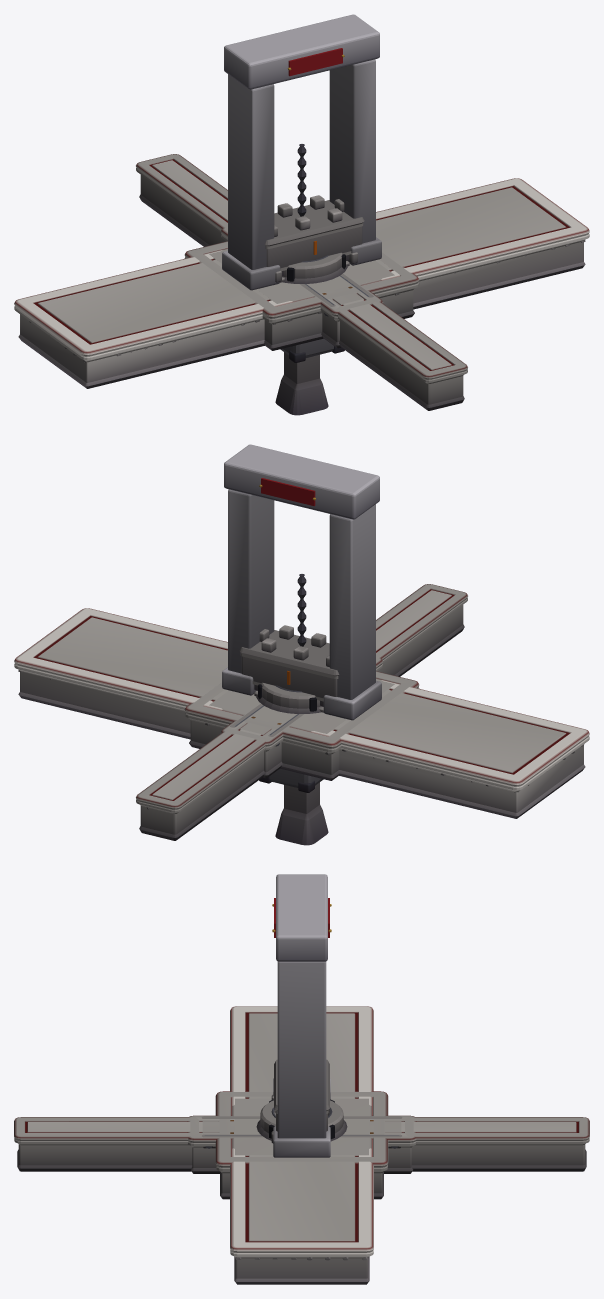
File: fortress-1-CBrLOZ64.glb
3 views of the same model, one above another, from view 1: azimuth 30°, elevation 25°; view 2: azimuth 150°, elevation 25°; view 3: azimuth 270°, elevation 25° (orthographic).
Visible parts, largest first — view 1: block_40x2x10#0, pressFrame_6x6x2x7#0, block_3.5x2x40_grate#0, block_12x2x12#0, spout_6x2#0, support_0_square#0, block_4x2x16#0, geyserVent_3.9#0, press_4x6x5_thump#0; view 2: block_40x2x10#0, pressFrame_6x6x2x7#0, block_3.5x2x40_grate#0, block_12x2x12#0, spout_6x2#0, support_0_square#0, block_4x2x16#0, geyserVent_3.9#0, press_4x6x5_thump#0; view 3: block_40x2x10#0, block_3.5x2x40_grate#0, pressFrame_6x6x2x7#0, block_12x2x12#0, block_4x2x16#0, geyserVent_3.9#0, belt_3.5x1.5x14x0#0, spout_6x2#0.
Part boxes in pixels (x1,y1,x2,y2): block_40x2x10#0: (14, 178, 589, 388); pressFrame_6x6x2x7#0: (222, 14, 381, 290); block_3.5x2x40_grate#0: (136, 154, 467, 410); block_12x2x12#0: (184, 241, 419, 350); spout_6x2#0: (264, 195, 364, 282); support_0_square#0: (275, 352, 328, 415); block_4x2x16#0: (220, 227, 383, 348); geyserVent_3.9#0: (282, 252, 347, 283); press_4x6x5_thump#0: (280, 144, 344, 362); block_40x2x10#0: (14, 608, 589, 818); pressFrame_6x6x2x7#0: (222, 444, 381, 720); block_3.5x2x40_grate#0: (136, 584, 467, 840); block_12x2x12#0: (184, 671, 419, 780); spout_6x2#0: (239, 625, 339, 706); support_0_square#0: (275, 782, 328, 845); block_4x2x16#0: (220, 657, 383, 778); geyserVent_3.9#0: (256, 682, 322, 713); press_4x6x5_thump#0: (259, 574, 323, 792); block_40x2x10#0: (230, 1006, 373, 1284); block_3.5x2x40_grate#0: (14, 1117, 589, 1171); pressFrame_6x6x2x7#0: (272, 874, 331, 1157); block_12x2x12#0: (215, 1091, 388, 1199); block_4x2x16#0: (187, 1115, 416, 1173); geyserVent_3.9#0: (256, 1099, 347, 1141); belt_3.5x1.5x14x0#0: (201, 1116, 402, 1148); spout_6x2#0: (271, 1059, 329, 1143).
Size of the model in its own units: 40 by 27.5 by 40.
